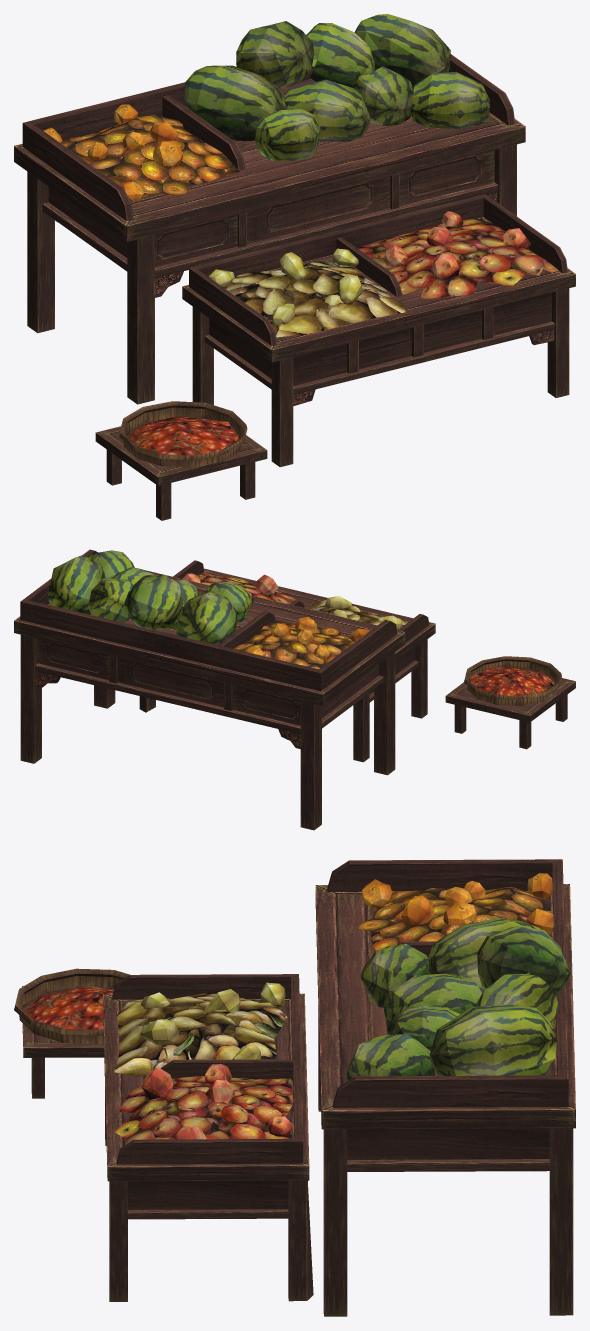
The picture shows the model from 3 angles, top to bottom: view 1: azimuth 30°, elevation 25°; view 2: azimuth 150°, elevation 25°; view 3: azimuth 270°, elevation 25°; orthographic projection. The views are drawn at different scales.
Parts seen in each view (by area): view 1: qingmo_obj_029 [10484282]; view 2: qingmo_obj_029 [10484282]; view 3: qingmo_obj_029 [10484282].
Boxes of the visible parts, x1,y1,x2,y2 form: qingmo_obj_029 [10484282]: [14, 14, 575, 520]; qingmo_obj_029 [10484282]: [14, 549, 575, 830]; qingmo_obj_029 [10484282]: [14, 859, 575, 1316].
Bounding box in the file's own units: 18.79 × 15.89 × 9.56.
Materials: 2 (2 with a texture image).
